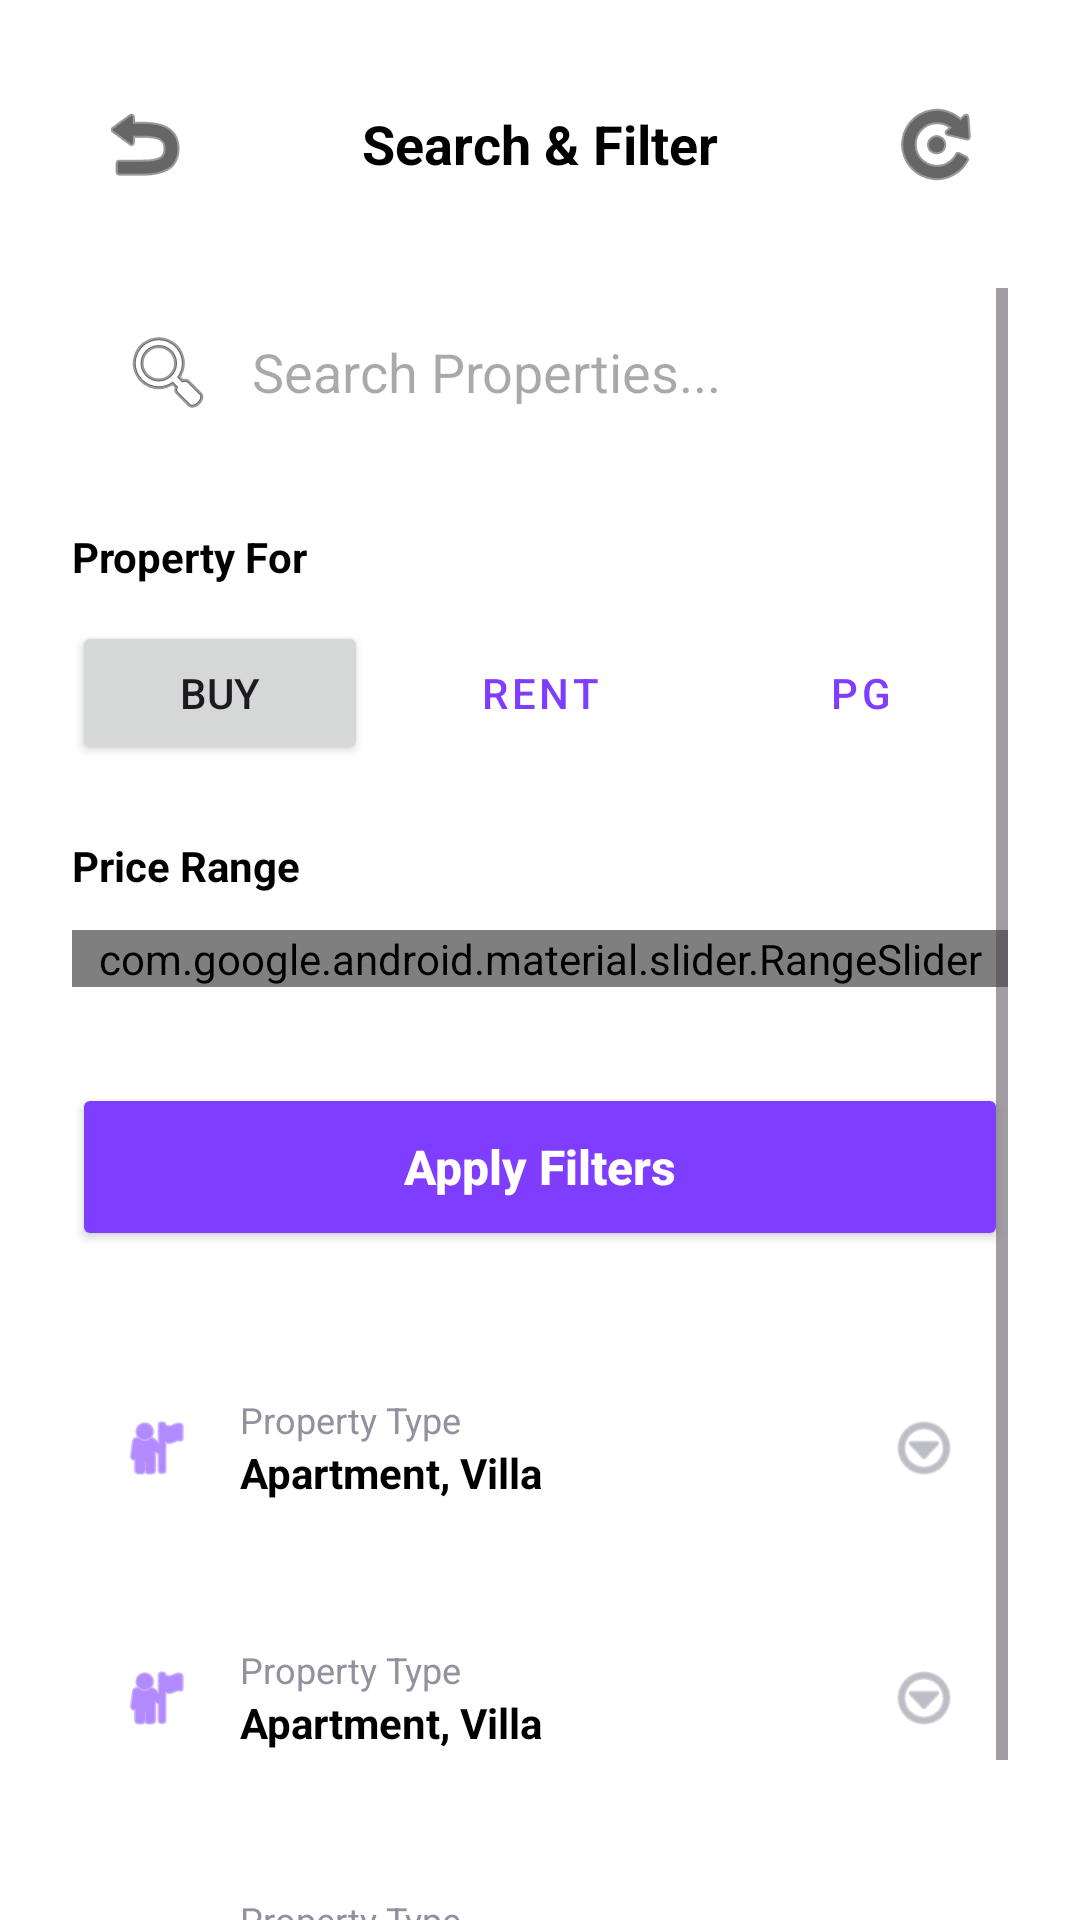

Icons on this 1080 × 1920 Android screen, each with its box as (x1, y1, x2, y2):
revert: (111, 113, 180, 176)
rotate: (901, 109, 971, 180)
